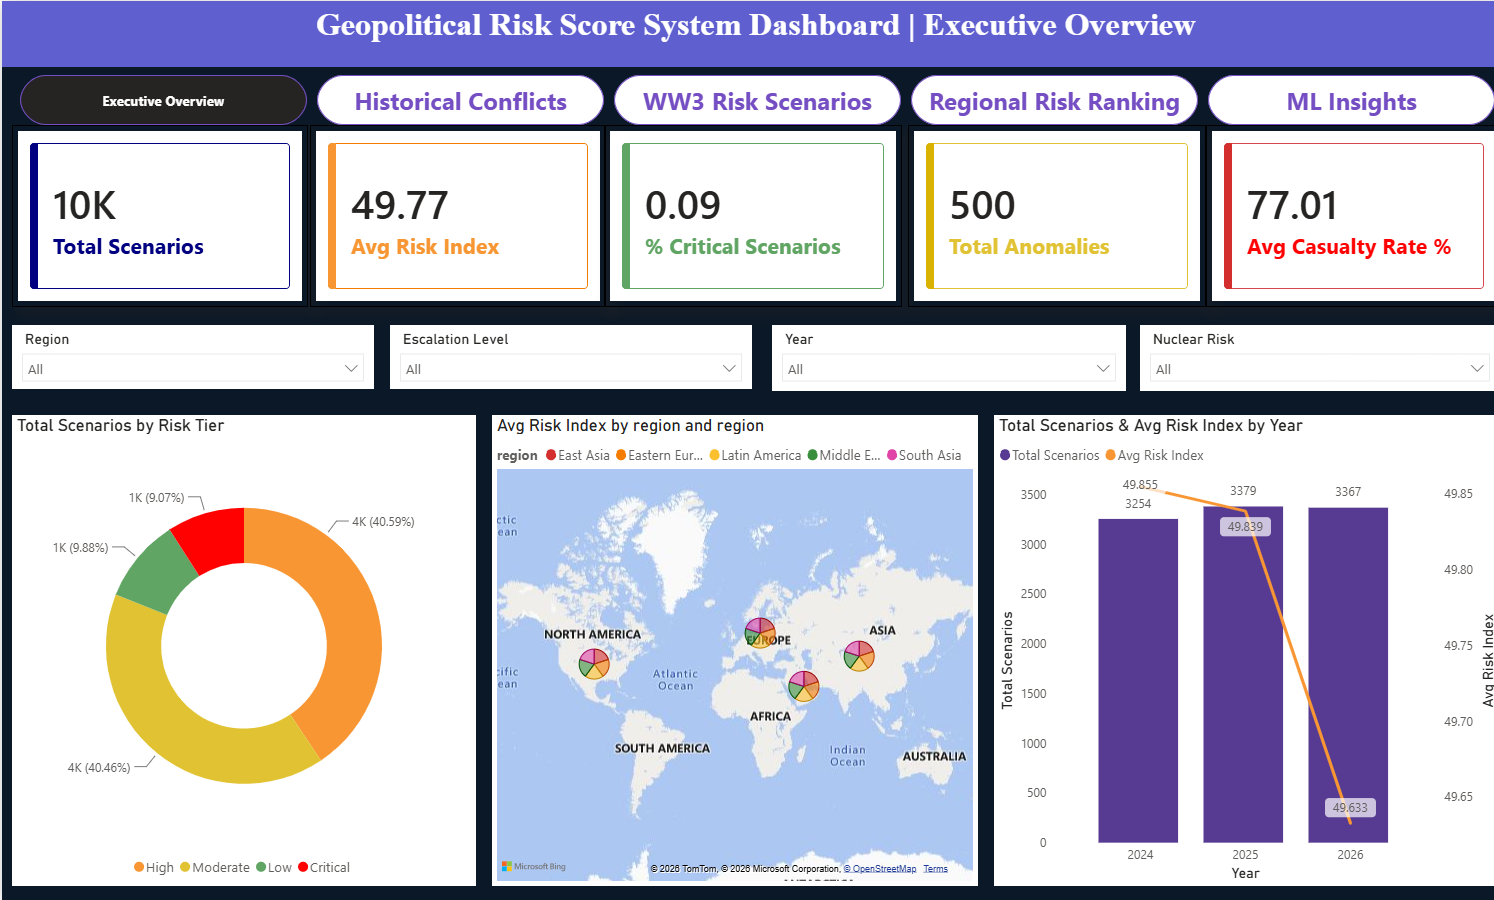

Layout of this report page (visuals, bound fields, positions):
{"tool":"powerbi","page":{"name":"Executive Overview","canvas":[1500,900],"ordinal":0},"visuals":[{"type":"textbox","box":[0,0,1500,66],"z":0},{"type":"cardVisual","fields":{"Data":["_Measure.Total Scenarios"]},"box":[10,124,296,182],"z":1000},{"type":"cardVisual","fields":{"Data":["_Measure.Avg Risk Index"]},"box":[308,124,296,182],"z":2000},{"type":"cardVisual","fields":{"Data":["_Measure.% Critical Scenarios"]},"box":[602,124,298,182],"z":3000},{"type":"cardVisual","fields":{"Data":["_Measure.Total Anomalies"]},"box":[906,124,298,182],"z":4000},{"type":"cardVisual","fields":{"Data":["_Measure.Avg Casualty Rate %"]},"box":[1204,124,296,182],"z":5000},{"type":"donutChart","title":"Total Scenarios by Risk Tier","fields":{"Y":["_Measure.Total Scenarios"],"Category":["FactRisk.risk_tier"]},"box":[10,414,464,470],"z":6000},{"type":"lineStackedColumnComboChart","title":"Total Scenarios & Avg Risk Index by Year","fields":{"Category":["DimYear.Year"],"Y":["_Measure.Total Scenarios"],"Y2":["_Measure.Avg Risk Index"]},"box":[992,414,506,470],"z":7000},{"type":"slicer","fields":{"Values":["FactRisk.region"]},"box":[10,324,362,64],"z":8000},{"type":"slicer","fields":{"Values":["FactRisk.nuclear_risk"]},"box":[1138,324,360,66],"z":9000},{"type":"slicer","fields":{"Values":["DimYear.Year"]},"box":[770,324,354,66],"z":10000},{"type":"slicer","fields":{"Values":["FactRisk.escalation_level"]},"box":[388,324,362,64],"z":11000},{"type":"map","fields":{"Series":["FactAnomalies.region"],"Size":["_Measure.Avg Risk Index"],"Category":["DimRegionalRisk.region"]},"box":[490,414,486,470],"z":12000},{"type":"pageNavigator","box":[17.2,74.1,1479.3,50],"z":13000}]}

Visuals, with their boxes in screenshot pixels (x1, y1, x2, y2), scaled from the page's 1500x900 canvas onto the 1494x900 screenshot:
textbox: box(0, 0, 1493, 66)
cardVisual - _Measure.Total Scenarios: box(10, 124, 305, 306)
cardVisual - _Measure.Avg Risk Index: box(307, 124, 602, 306)
cardVisual - _Measure.% Critical Scenarios: box(600, 124, 896, 306)
cardVisual - _Measure.Total Anomalies: box(902, 124, 1199, 306)
cardVisual - _Measure.Avg Casualty Rate %: box(1199, 124, 1493, 306)
"Total Scenarios by Risk Tier" donutChart: box(10, 414, 472, 884)
"Total Scenarios & Avg Risk Index by Year" lineStackedColumnComboChart: box(988, 414, 1492, 884)
slicer - FactRisk.region: box(10, 324, 371, 388)
slicer - FactRisk.nuclear_risk: box(1133, 324, 1492, 390)
slicer - DimYear.Year: box(767, 324, 1120, 390)
slicer - FactRisk.escalation_level: box(386, 324, 747, 388)
map - FactAnomalies.region x _Measure.Avg Risk Index: box(488, 414, 972, 884)
pageNavigator: box(17, 74, 1491, 124)
